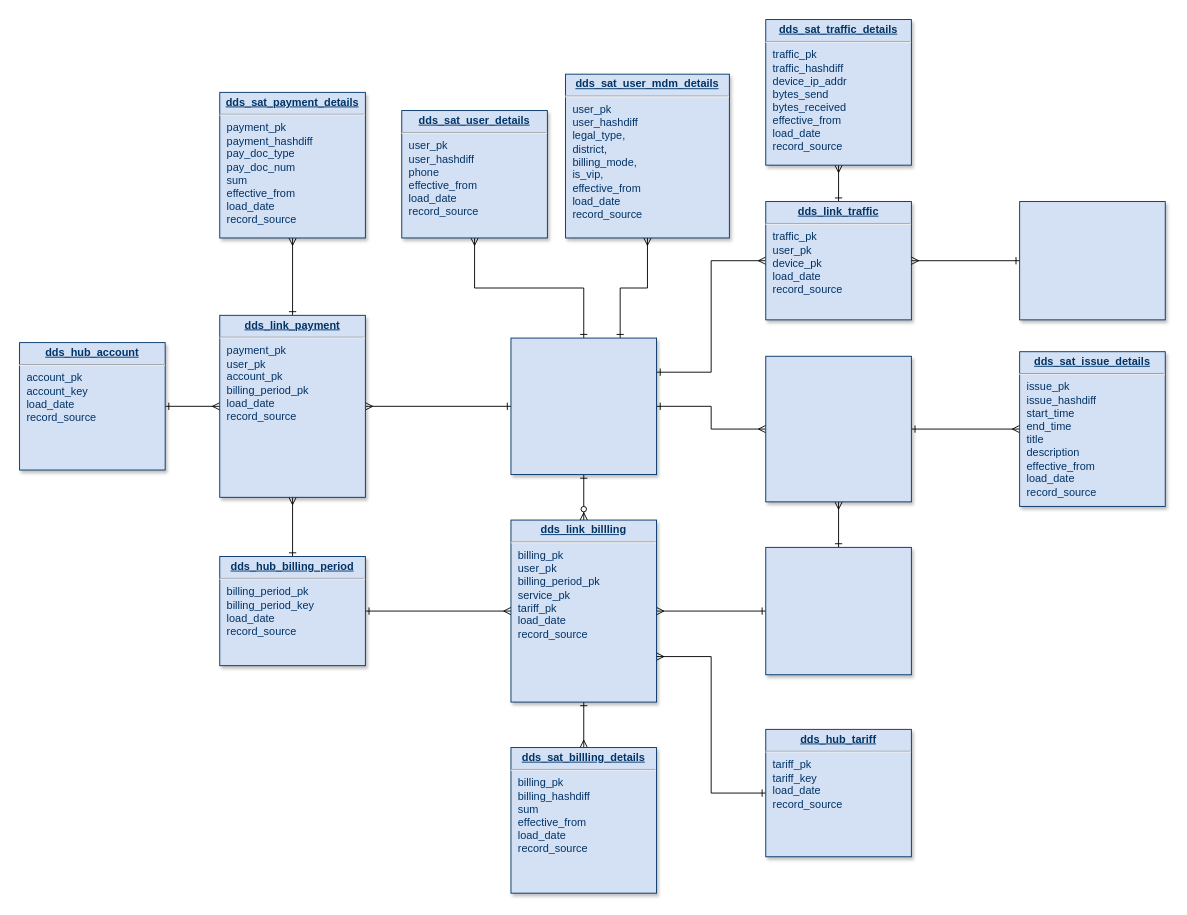
Some shapes in this 1187 by 915 pixel diagram are drawn without their labels. Each missing label, with the centre of its shape:
"dds_hub_device device_pk device_key load_date record_source" goes at (x=1093, y=261).
"dds_hub_service service_pk service_key load_date record_source" goes at (x=839, y=612).
"dds_hub_user user_pk user_key load_date record_source" goes at (x=584, y=407).
"dds_link_issue issue_pk user_pk service_pk load_date record_source" goes at (x=839, y=430).
